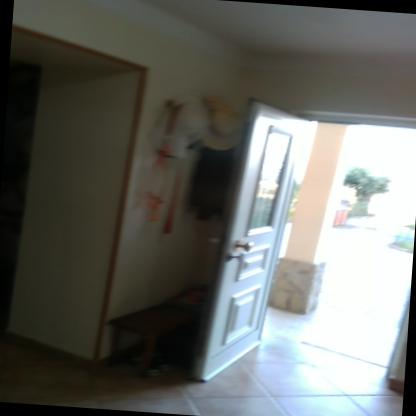open: (207, 88, 415, 415)
semi: (0, 33, 150, 377)
